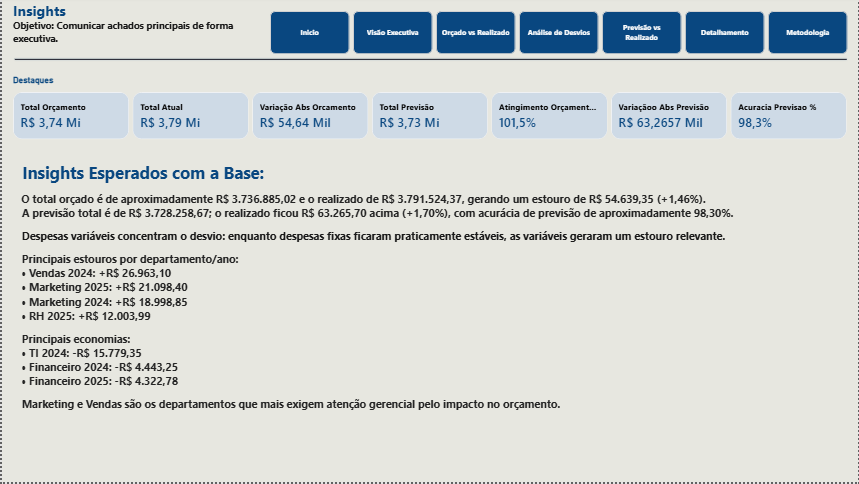

This screenshot's page, from the dashboard's own definition file:
{"tool":"powerbi","page":{"name":"Insights","canvas":[1920,1080],"ordinal":6},"visuals":[{"type":"textbox","box":[24,0,552,120],"z":0},{"type":"pageNavigator","title":"Áreas de Análise:","box":[600,24,1296,96],"z":1000},{"type":"shape","box":[24,120,1872,24],"z":2000},{"type":"cardVisual","title":"Destaques","fields":{"Data":["Medidas.Total Orcamento","Medidas.Total Atual","Medidas.Variacao Absoluta Orcamento","Medidas.Total Previsao","Medidas.Atingimento Orcamento %","Medidas.Variacao Absoluta Previsao","Medidas.Acuracia Previsao %"]},"box":[24,168,1872,144],"z":7001},{"type":"textbox","box":[24,360,1872,624],"z":7002}]}

Visuals, with their boxes in screenshot pixels (x1, y1, x2, y2), scaled from the page's 1920x1080 canvas onto the 859x484 screenshot:
textbox: [11, 0, 258, 54]
"Áreas de Análise:" pageNavigator: [268, 11, 848, 54]
shape: [11, 54, 848, 65]
"Destaques" cardVisual: [11, 75, 848, 140]
textbox: [11, 161, 848, 441]
